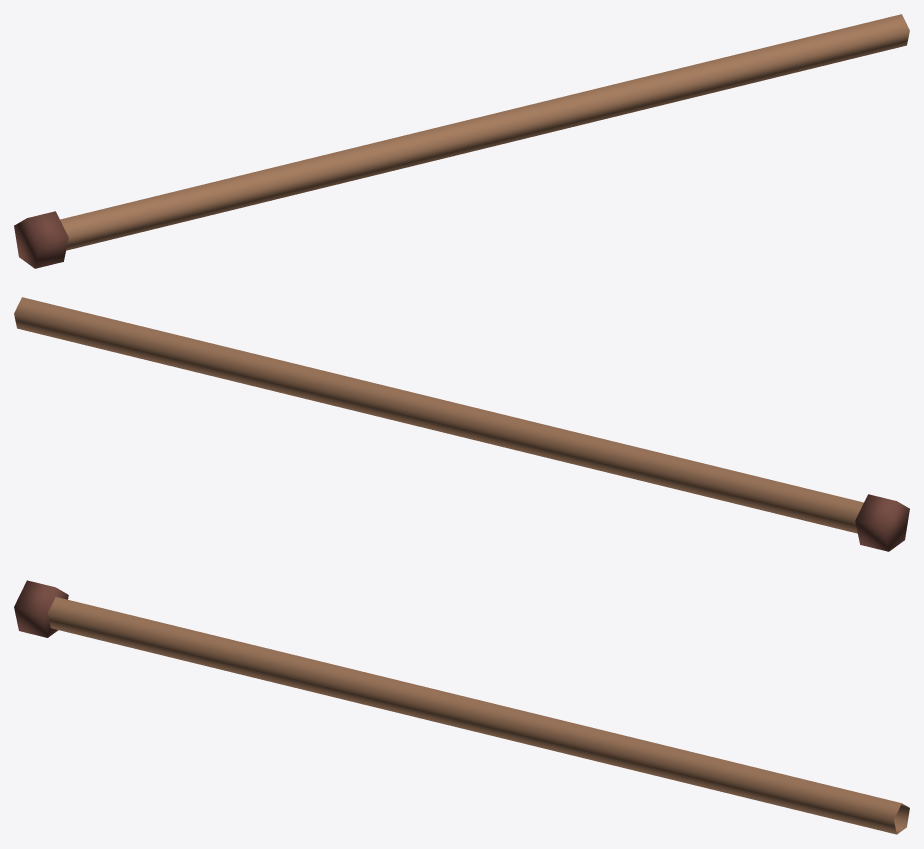
File: Stick_geo.fbx
3 views of the same model, one above another, from view 1: azimuth 30°, elevation 25°; view 2: azimuth 150°, elevation 25°; view 3: azimuth 330°, elevation 25° (orthographic).
Visible parts, largest first — view 1: Stick_geo; view 2: Stick_geo; view 3: Stick_geo.
Boxes of the visible parts, bbox=[...] form: Stick_geo: bbox=[14, 14, 909, 268]; Stick_geo: bbox=[14, 297, 909, 551]; Stick_geo: bbox=[14, 580, 909, 834].
Bounding box in the file's own units: 2.23 × 0.115 × 0.1093.
